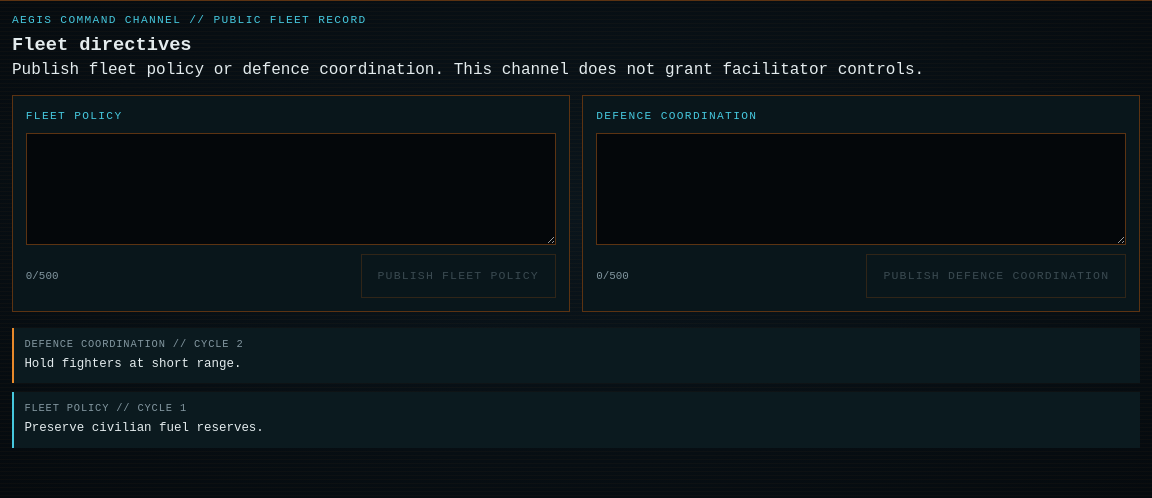
it: publishes only the selected permitted directive category and waits for the server projection
Step 1. Type "Conserve jump fuel." into the text box labelled "Fleet policy" → (291, 189), box [26,133,556,245]
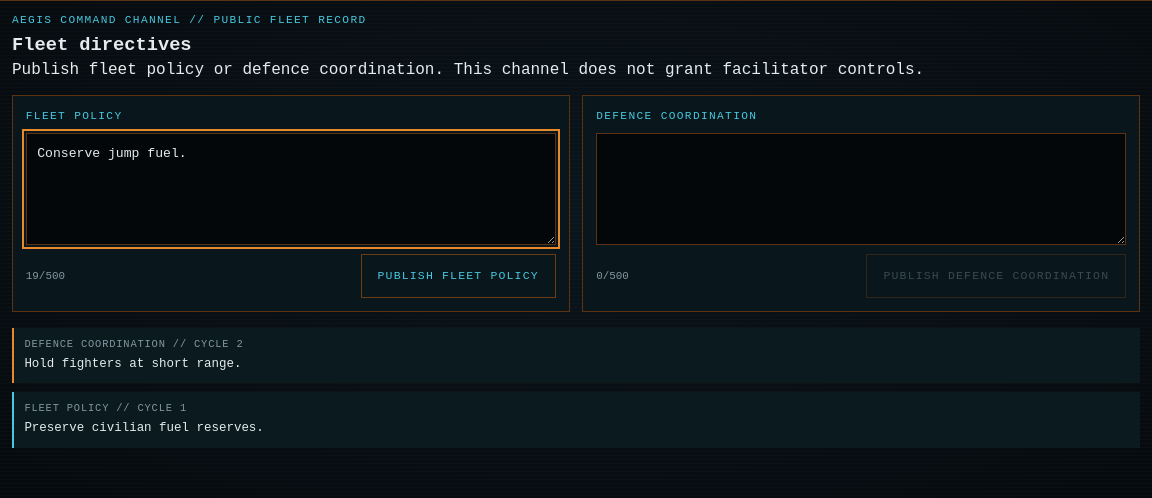
Step 2. Click the button "Publish fleet policy" → (458, 276), box [360,254,556,298]
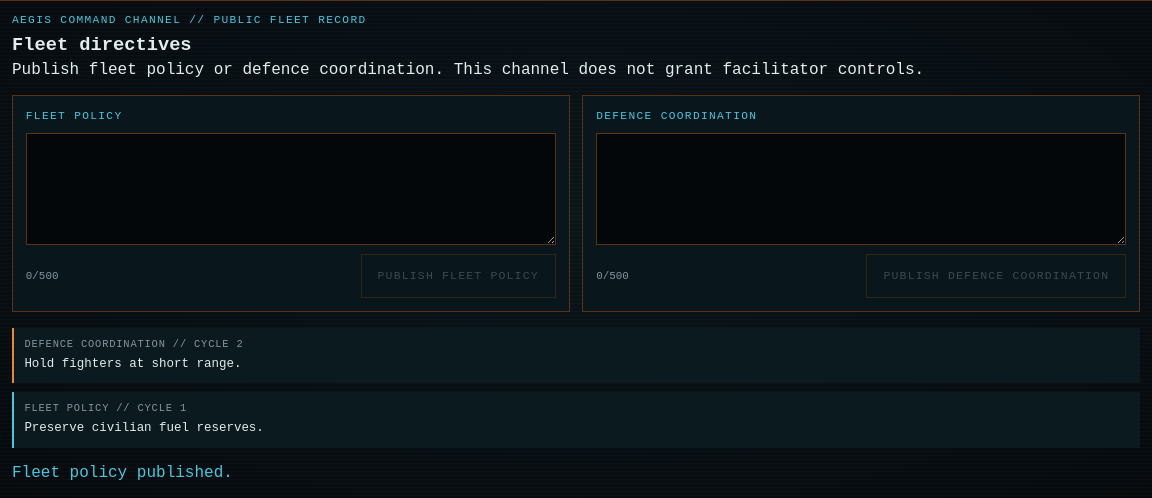
expect the number of list items is 2: met, box [12,328,1140,383]; [12,392,1140,448]
expect the text "Fleet policy published." is shown: met, box [12,464,233,482]
